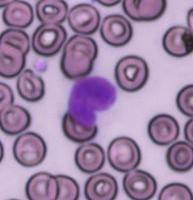M: (63, 73, 122, 128)
